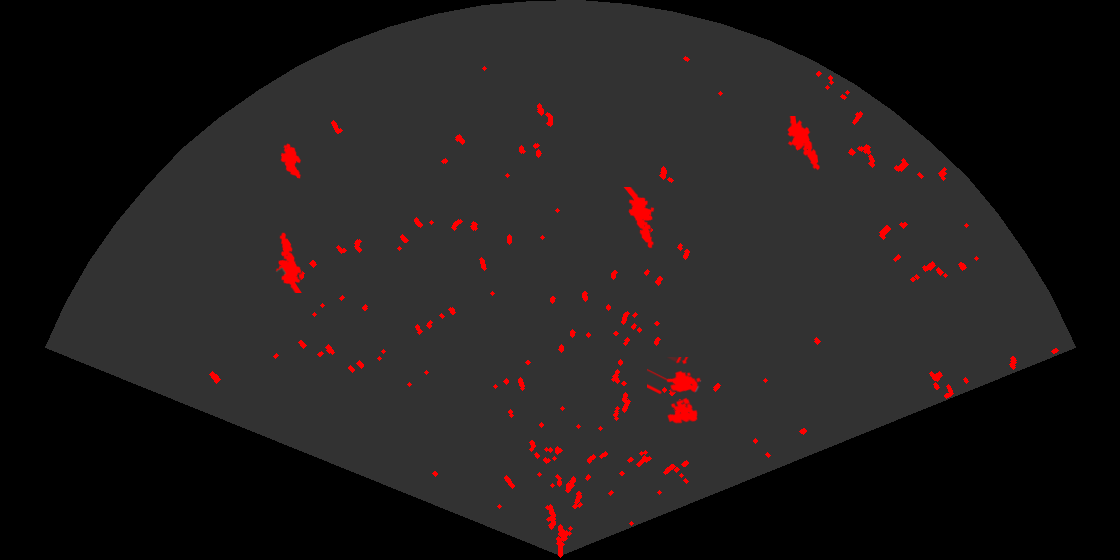AUV: (279, 142, 303, 181)
cage: (647, 357, 702, 425)
frogman: (622, 187, 656, 250), (786, 116, 821, 172), (274, 231, 303, 293)
